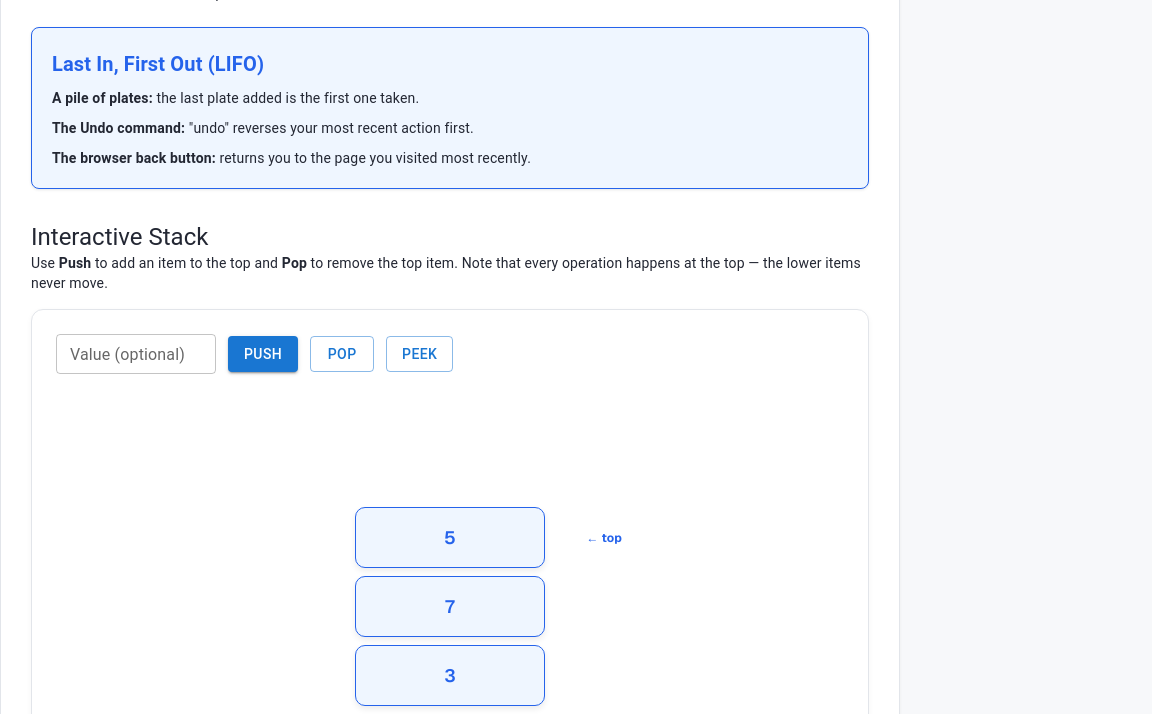
Test case: StackConcept › push with no value still adds an item
(page scrolled)
Click the button "Push": (263, 354) [228,336,298,372]
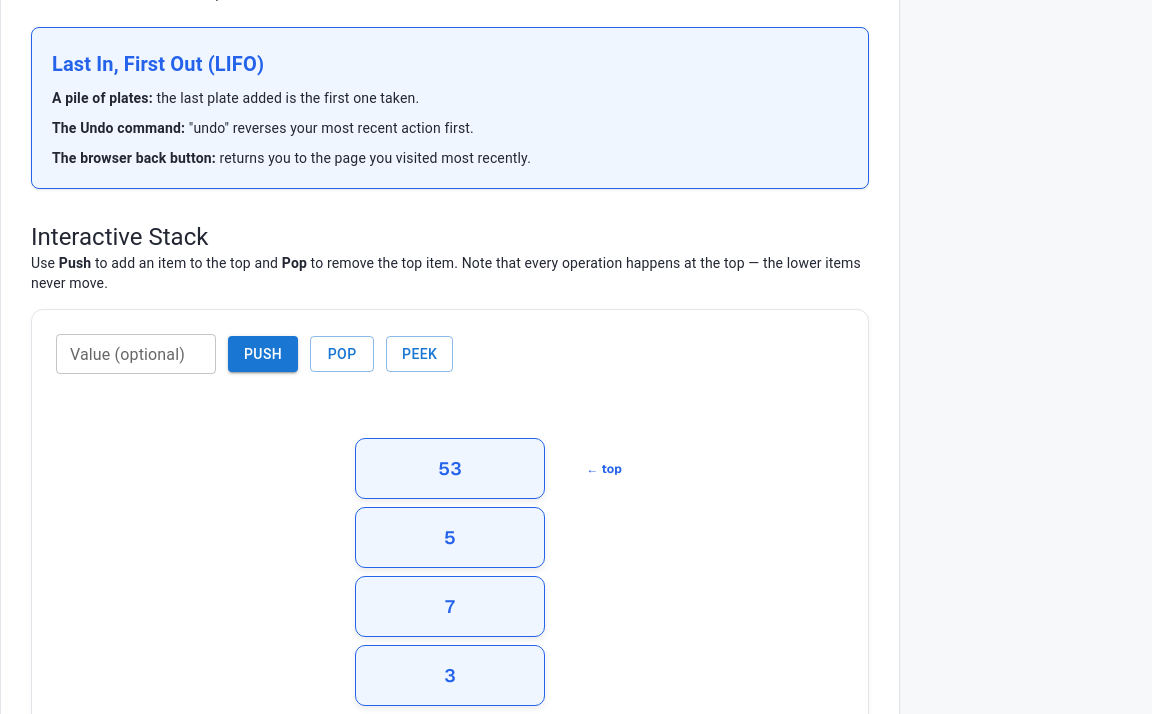
expect the number of elements with class "stack-item" is 4: met, box [355,438,545,499]; [355,507,545,568]; [355,576,545,637]; [355,645,545,706]
